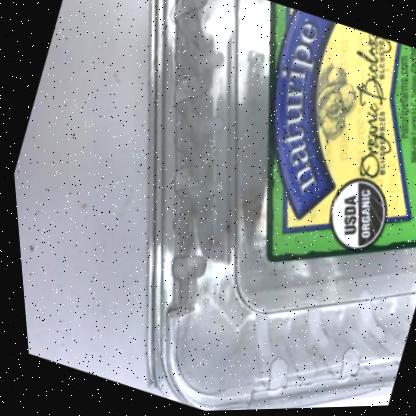Plastic: (142, 0, 416, 412)
